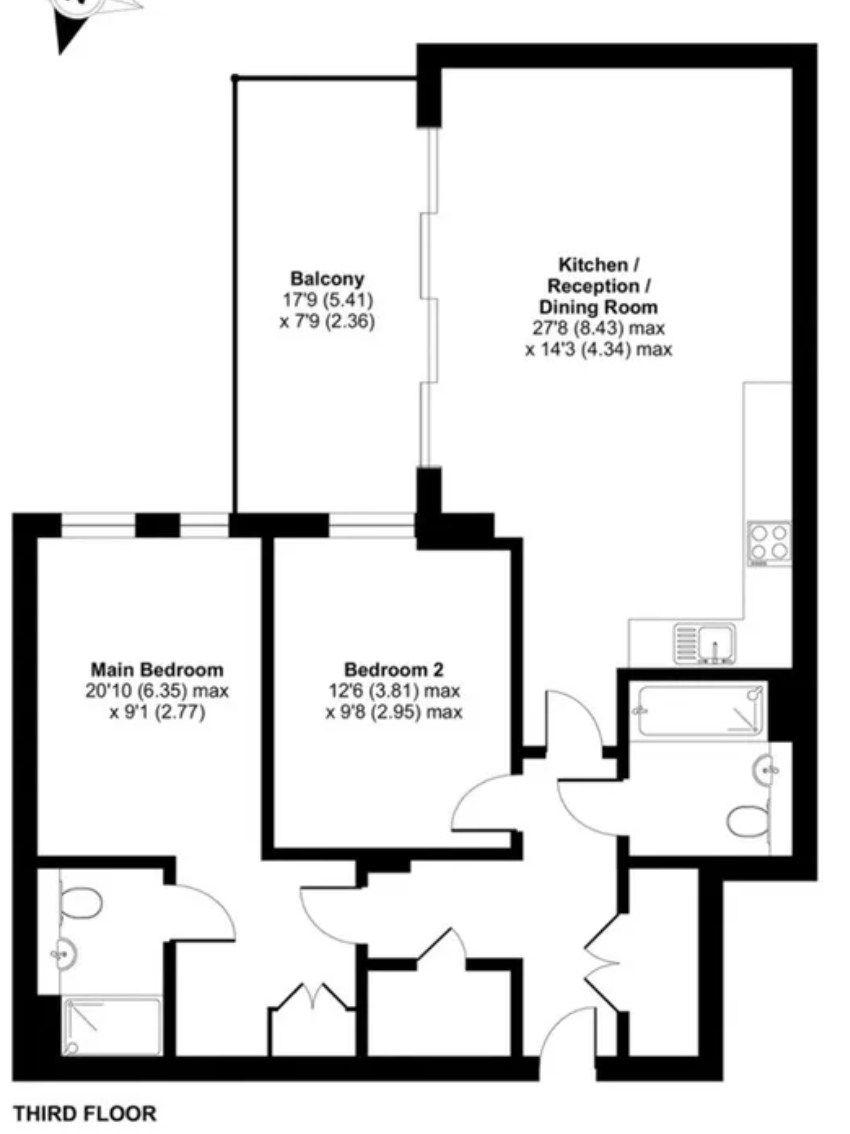basin: (751, 752, 778, 790), (50, 938, 78, 972)
bathtub: (630, 681, 769, 743)
door: (161, 881, 244, 945), (540, 1003, 598, 1080), (555, 776, 628, 836), (450, 774, 525, 832), (542, 688, 602, 760), (298, 884, 369, 944), (581, 964, 636, 1013), (581, 912, 633, 962), (418, 927, 464, 969), (273, 979, 314, 1018), (312, 976, 343, 1019)
shower: (62, 993, 163, 1058)
sink: (676, 620, 739, 667)
toilet: (723, 800, 774, 842), (60, 884, 101, 921)
window: (416, 127, 442, 468), (329, 513, 413, 540), (60, 512, 137, 537), (179, 510, 228, 540)
